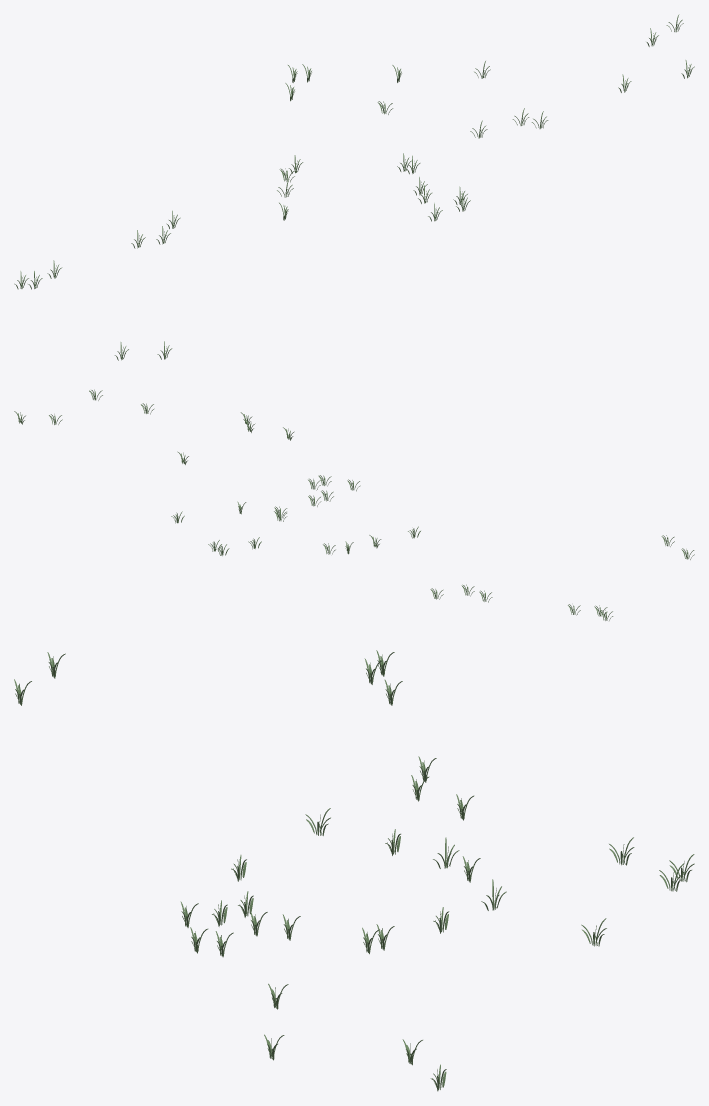
File: grass_block_1.gltf
3 views of the same model, one above another, from view 1: azimuth 30°, elevation 25°; view 2: azimuth 150°, elevation 25°; view 3: azimuth 270°, elevation 25° (orthographic). The views are drawn at different scales.
Bounding box in the file's own units: 14.95 × 1.99 × 7.65.
